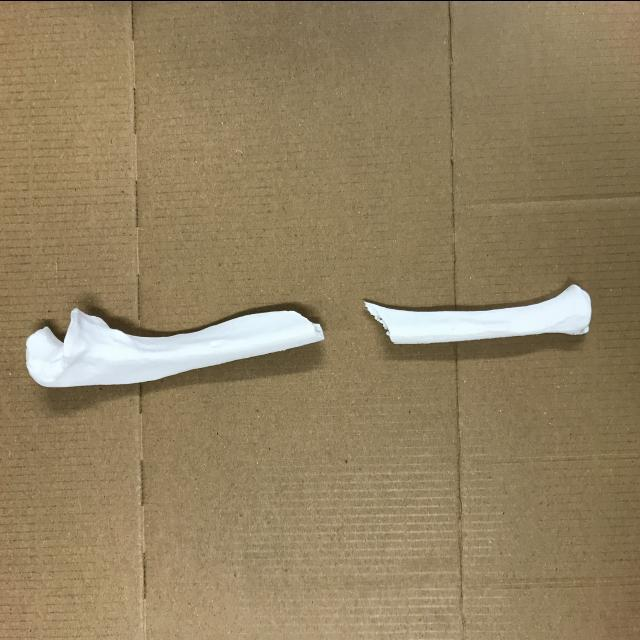bone: (18, 296, 328, 394), (358, 282, 602, 356)
